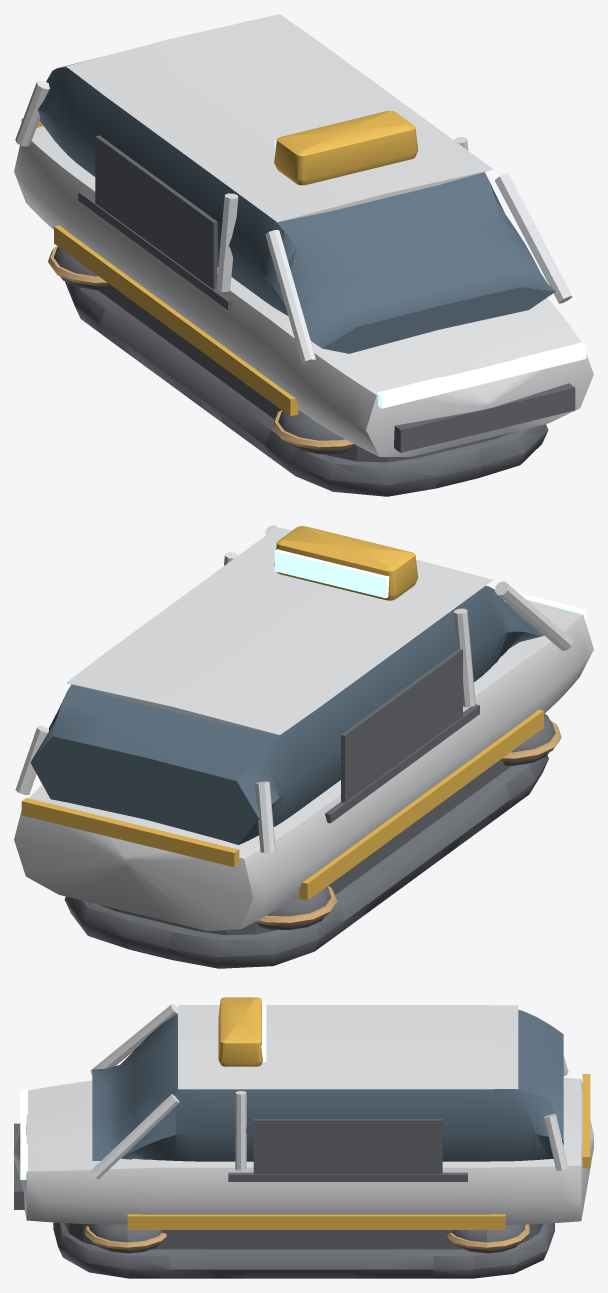
The model's file is hover-transit-and-antigrav-fleet-hover-taxi-a566c3fd__17075.glb.
The picture shows the model from 3 angles, top to bottom: view 1: azimuth 30°, elevation 25°; view 2: azimuth 150°, elevation 25°; view 3: azimuth 270°, elevation 25°; orthographic projection. The views are drawn at different scales.
Visible parts, largest first — view 1: hover-taxi; view 2: hover-taxi; view 3: hover-taxi.
Part boxes in pixels (x1,y1,x2,y2): hover-taxi: [14, 14, 593, 496]; hover-taxi: [14, 525, 593, 968]; hover-taxi: [14, 997, 593, 1278].
Bounding box in the file's own units: 2.02 × 1.92 × 4.6.
